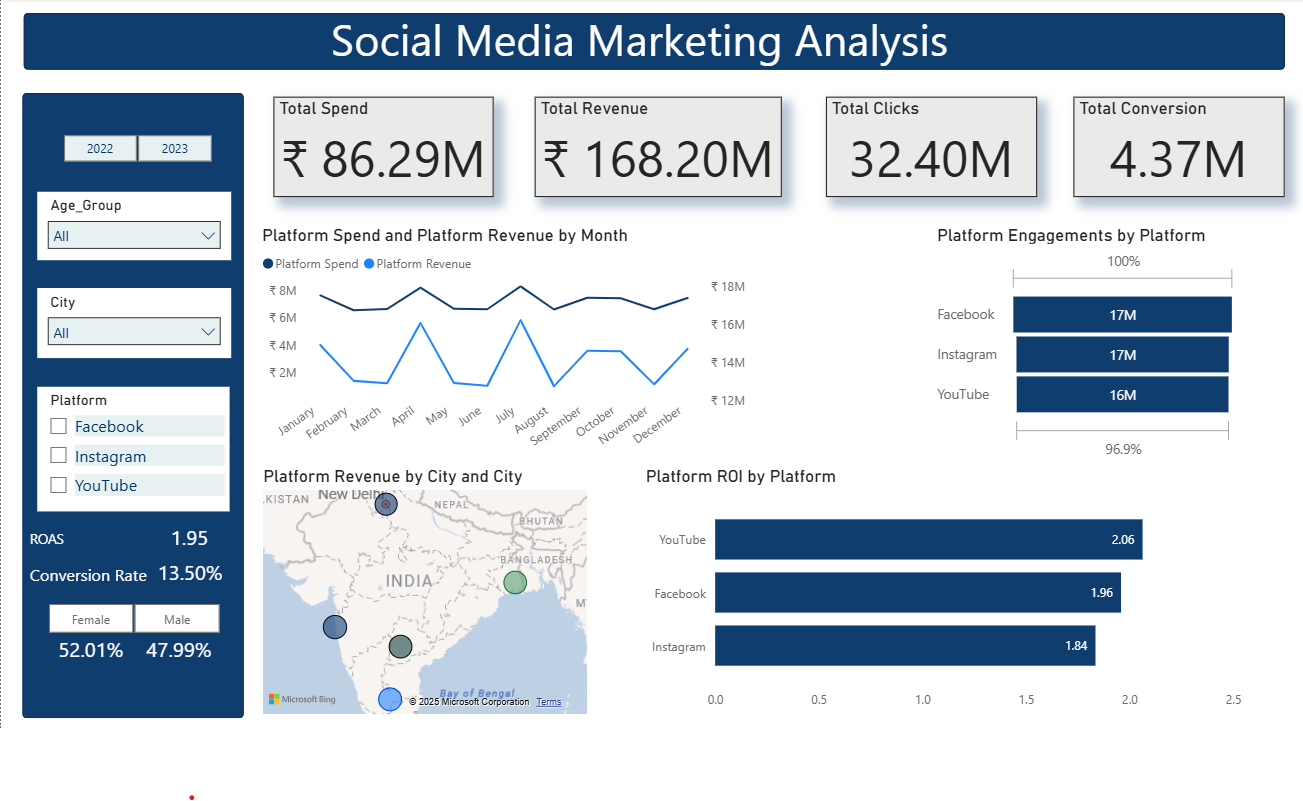

The page's visual inventory and layout, read from the dashboard file:
{"tool":"powerbi","page":{"name":"Analysis","canvas":[1280,720],"ordinal":0},"visuals":[{"type":"shape","box":[21.8,14.5,1238.3,55.7],"z":0},{"type":"shape","box":[21.2,93.8,217.5,613.8],"z":1000},{"type":"slicer","fields":{"Values":["Dim_Demographics.Age_Group"]},"box":[35,189.7,190,67.5],"z":2000},{"type":"slicer","fields":{"Values":["Dim_Geography.City"]},"box":[35,284.7,190,68.8],"z":3000},{"type":"slicer","fields":{"Values":["Dim_Platform.Platform"]},"box":[35.6,382.2,189,122.7],"z":4000},{"type":"card","title":"Total Spend","fields":{"Values":["Dim_Platform.Platform Spend"]},"box":[267.5,97.5,216.2,98.8],"z":5000},{"type":"card","title":"Total Revenue","fields":{"Values":["Dim_Platform.Platform Revenue"]},"box":[523.8,97.5,242.5,98.8],"z":6000},{"type":"card","title":"ROAS","fields":{"Values":["Dim_Platform.Platform ROAS"]},"box":[144.8,517.2,81,33.1],"z":7000},{"type":"card","title":"Total Conversion","fields":{"Values":["Dim_Platform.Platform Conversions"]},"box":[1052.5,97.5,207.5,98.8],"z":8000},{"type":"card","title":"Total Clicks","fields":{"Values":["Dim_Platform.Platform Clicks"]},"box":[810,97.5,207.5,98.8],"z":9000},{"type":"card","fields":{"Values":["Dim_Platform.Platform Conversion Rate"]},"box":[146,551.5,79.8,33.1],"z":10000},{"type":"textbox","box":[23.3,550.3,136.2,33.1],"z":11000},{"type":"textbox","box":[23.3,517.2,136.2,33.1],"z":12000},{"type":"lineChart","fields":{"Y2":["Dim_Platform.Platform Revenue"],"Category":["DateTable.Month"],"Y":["Dim_Platform.Platform Spend"]},"box":[251.5,222.1,484.7,236.8],"z":13000},{"type":"funnel","fields":{"Category":["Dim_Platform.Platform"],"Y":["Dim_Platform.Platform Engagements"]},"box":[914.1,222.1,304.3,236.8],"z":14000},{"type":"map","fields":{"Category":["Dim_Geography.City"],"Series":["Dim_Geography.City"],"Size":["Dim_Platform.Platform Revenue"]},"box":[252.5,458.8,327.5,248.8],"z":15000},{"type":"card","fields":{"Values":["Dim_Demographics.% Female"]},"box":[46.2,630,83.8,27.5],"z":16000},{"type":"card","fields":{"Values":["Dim_Demographics.% Male"]},"box":[132.5,630,85,27.5],"z":17000},{"type":"clusteredBarChart","fields":{"Category":["Dim_Platform.Platform"],"Y":["Dim_Platform.Platform ROI"]},"box":[628.8,458.8,608.8,248.8],"z":20000},{"type":"slicer","fields":{"Values":["DateTable.Year"]},"box":[35,127.5,195,38.8],"z":21000},{"type":"slicer","fields":{"Values":["Dim_Demographics.Gender"]},"box":[21.2,587.5,217.5,42.5],"z":22000},{"type":"textbox","box":[319,6.1,625.8,72.4],"z":22001}]}

Visuals, with their boxes in screenshot pixels (x1, y1, x2, y2):
shape: x1=22, y1=11, x2=1265, y2=67
shape: x1=21, y1=91, x2=240, y2=707
slicer - Dim_Demographics.Age_Group: x1=35, y1=187, x2=226, y2=255
slicer - Dim_Geography.City: x1=35, y1=282, x2=226, y2=351
slicer - Dim_Platform.Platform: x1=36, y1=380, x2=225, y2=503
"Total Spend" card: x1=269, y1=94, x2=486, y2=194
"Total Revenue" card: x1=526, y1=94, x2=769, y2=194
"ROAS" card: x1=145, y1=516, x2=227, y2=549
"Total Conversion" card: x1=1057, y1=94, x2=1265, y2=194
"Total Clicks" card: x1=813, y1=94, x2=1021, y2=194
card - Dim_Platform.Platform Conversion Rate: x1=147, y1=550, x2=227, y2=583
textbox: x1=23, y1=549, x2=160, y2=582
textbox: x1=23, y1=516, x2=160, y2=549
lineChart - Dim_Platform.Platform Revenue x DateTable.Month: x1=252, y1=220, x2=739, y2=457
funnel - Dim_Platform.Platform x Dim_Platform.Platform Engagements: x1=918, y1=220, x2=1223, y2=457
map - Dim_Geography.City x Dim_Geography.City: x1=253, y1=457, x2=582, y2=707
card - Dim_Demographics.% Female: x1=46, y1=629, x2=131, y2=657
card - Dim_Demographics.% Male: x1=133, y1=629, x2=218, y2=657
clusteredBarChart - Dim_Platform.Platform x Dim_Platform.Platform ROI: x1=631, y1=457, x2=1242, y2=707
slicer - DateTable.Year: x1=35, y1=125, x2=231, y2=164
slicer - Dim_Demographics.Gender: x1=21, y1=586, x2=240, y2=629
textbox: x1=320, y1=3, x2=948, y2=75
